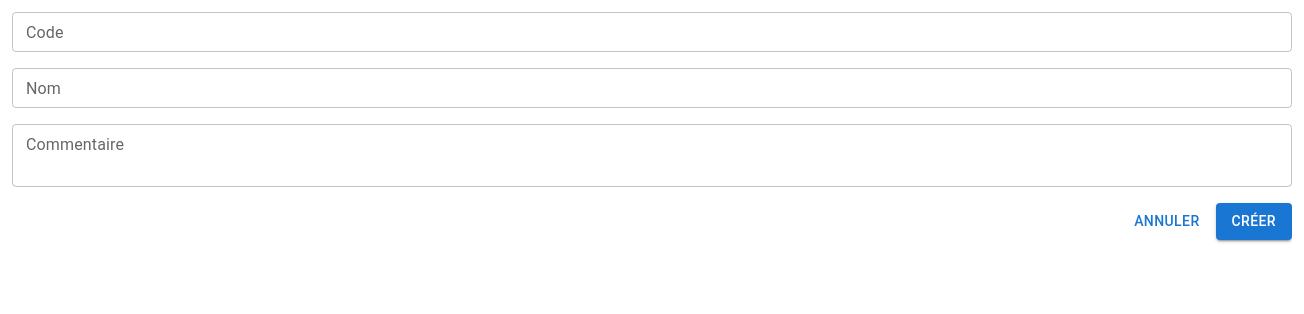
it: ClientCreateForm › rejects submission when required fields are empty
Click the button "Créer".
click(1254, 221)  # box [1216,203,1292,240]
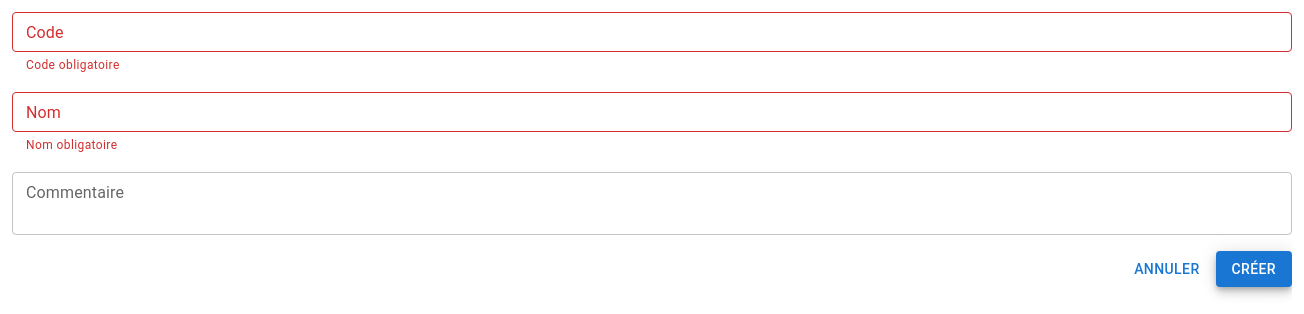
Now the text "Code obligatoire" is shown, box [26,58,120,72]
